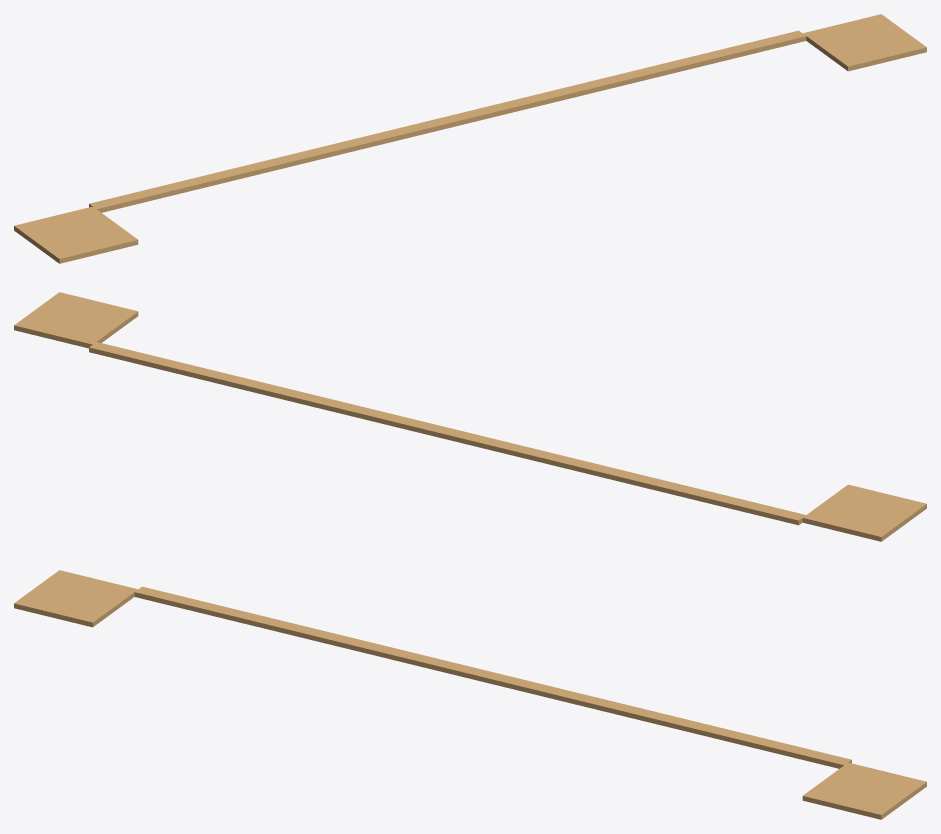
Rendered from board.glb.
The picture shows the model from 3 angles, top to bottom: view 1: azimuth 30°, elevation 25°; view 2: azimuth 150°, elevation 25°; view 3: azimuth 330°, elevation 25°; orthographic projection.
Parts seen in each view (by area): view 1: Unified_Net_1_Island_0; view 2: Unified_Net_1_Island_0; view 3: Unified_Net_1_Island_0.
Boxes of the visible parts, left/top/right/bottom form: Unified_Net_1_Island_0: left=14, top=14, right=926, bottom=263; Unified_Net_1_Island_0: left=14, top=292, right=926, bottom=541; Unified_Net_1_Island_0: left=14, top=570, right=926, bottom=819.
Bounding box in the file's own units: 0.0066 × 3.5e-05 × 0.00065.
